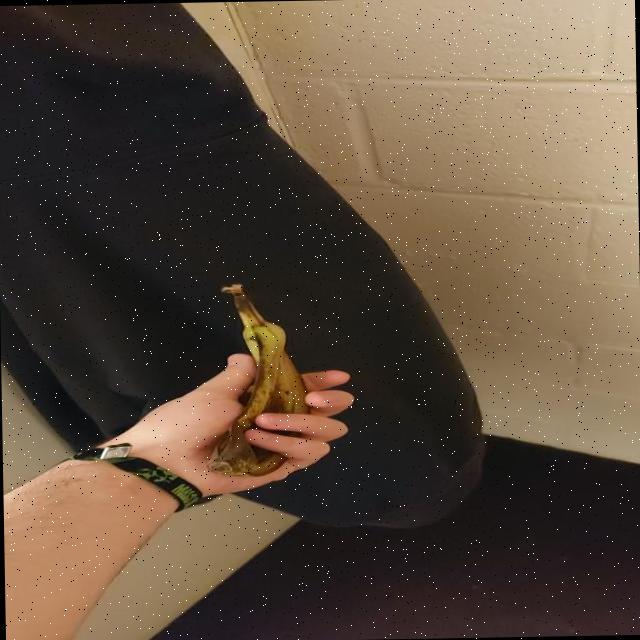banana-peel: (202, 279, 310, 477)
